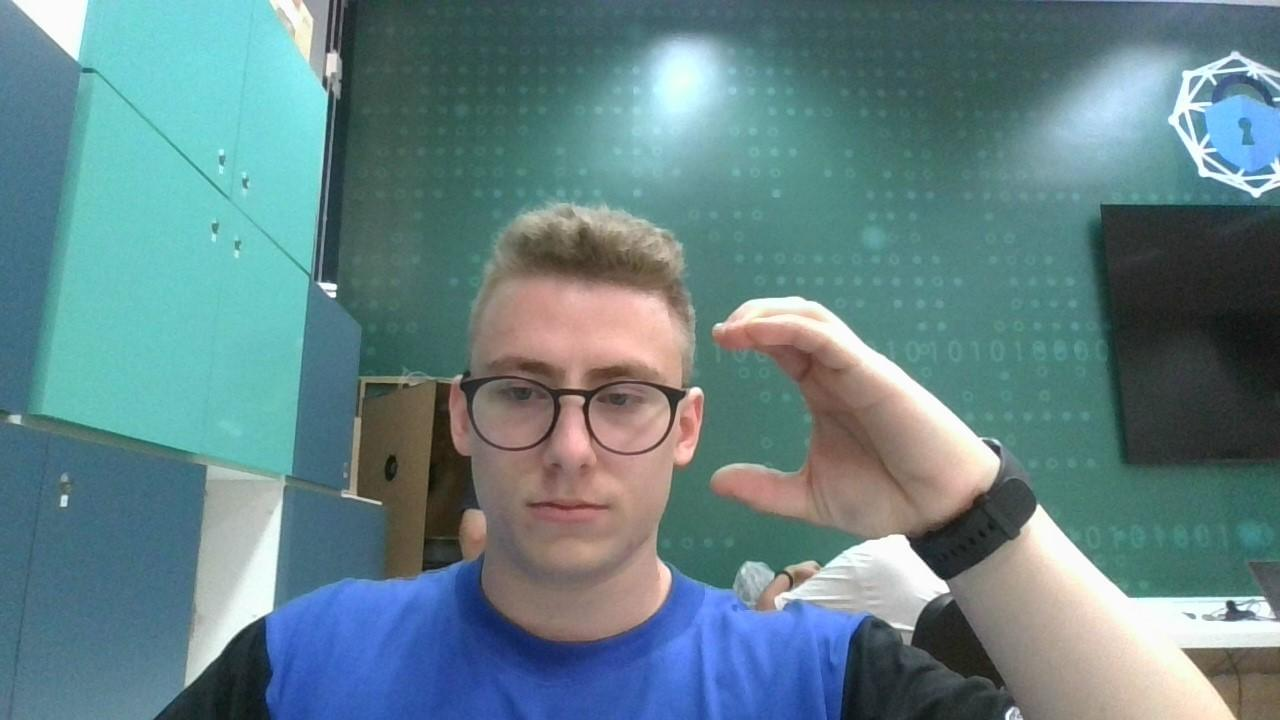C: (698, 294, 988, 526)
